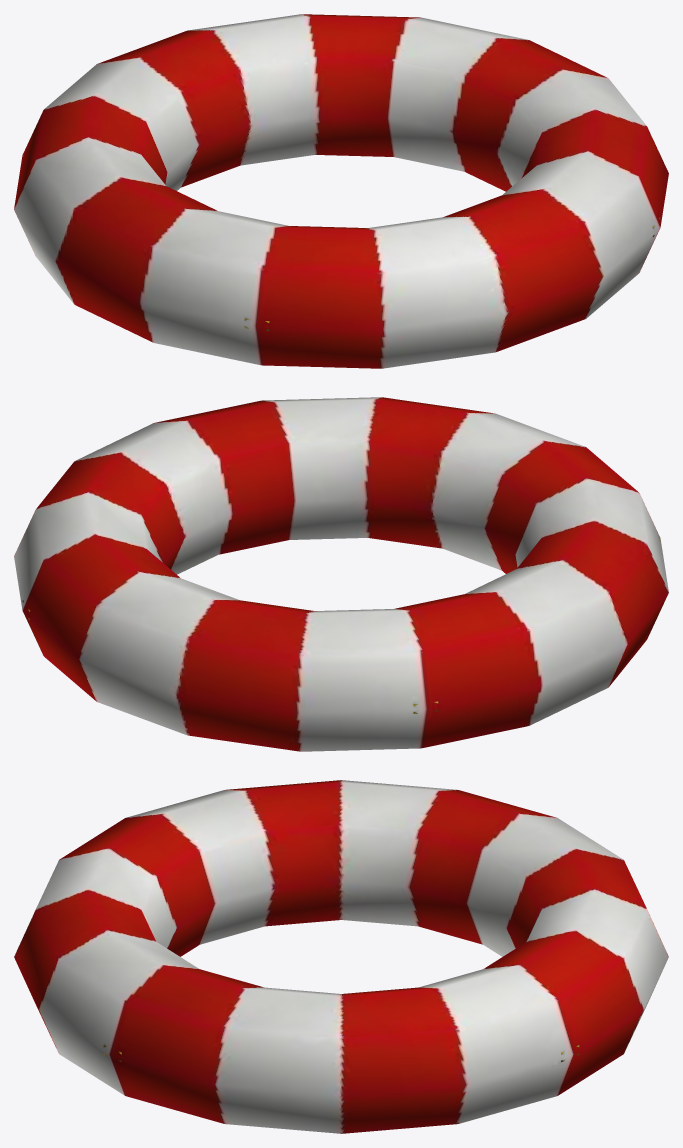
Rendered from Floaties.glb.
3 views of the same model, one above another, from view 1: azimuth 30°, elevation 25°; view 2: azimuth 150°, elevation 25°; view 3: azimuth 270°, elevation 25° (orthographic).
Parts seen in each view (by area): view 1: Floaties; view 2: Floaties; view 3: Floaties.
Boxes of the visible parts, x1,y1,x2,y2 form: Floaties: [14, 14, 668, 368]; Floaties: [14, 397, 668, 751]; Floaties: [14, 780, 668, 1133].
Bounding box in the file's own units: 0.88 × 0.2 × 0.88.
Materials: 1 (1 with a texture image).
